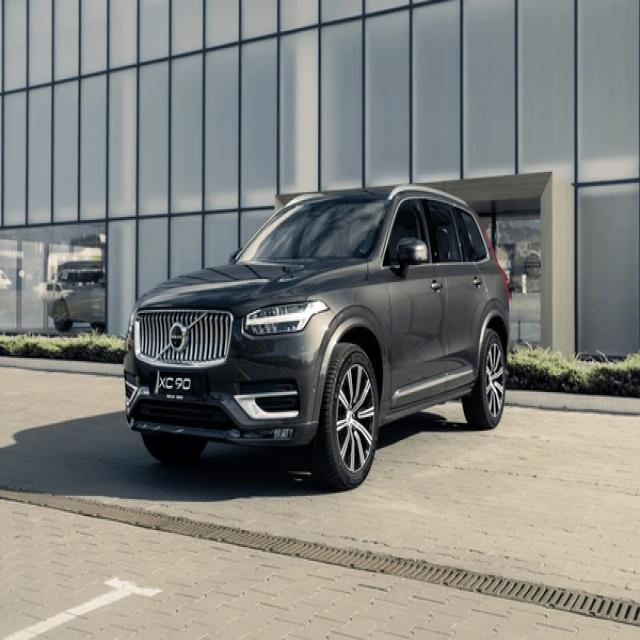volvo: (166, 320, 191, 356)
